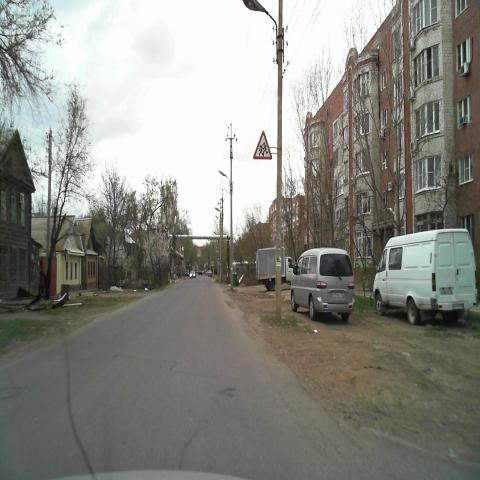1_23: (252, 129, 273, 160)
